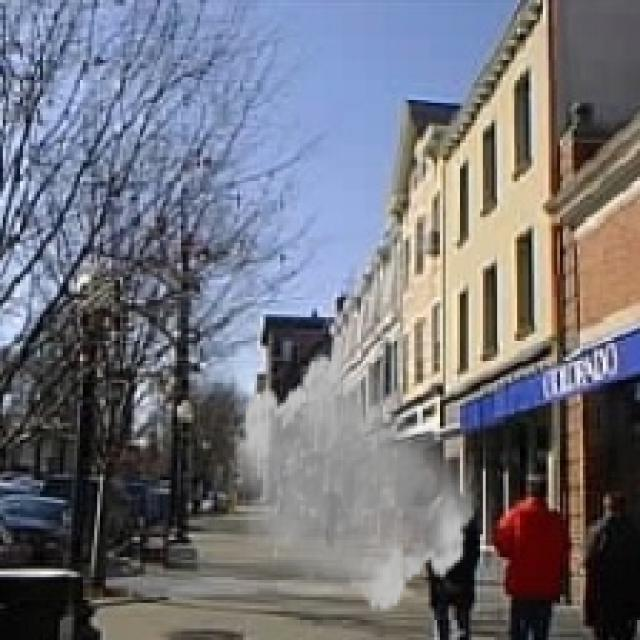Smoke: (228, 352, 481, 614)
